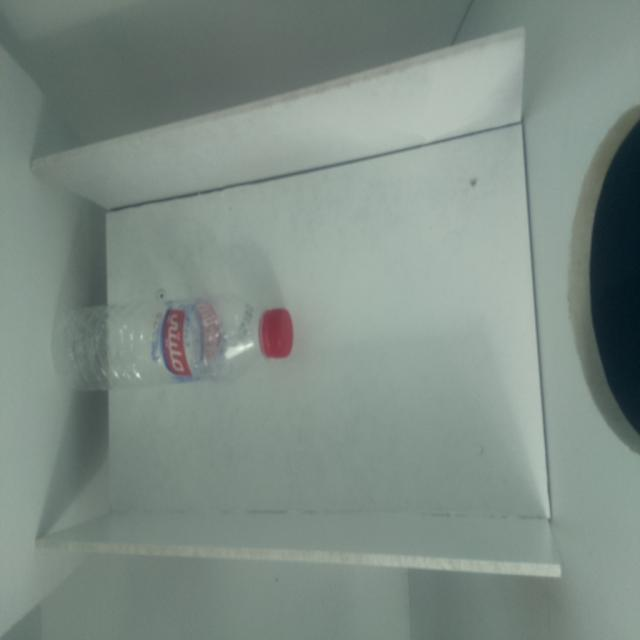Anorganik: (54, 292, 310, 395)
